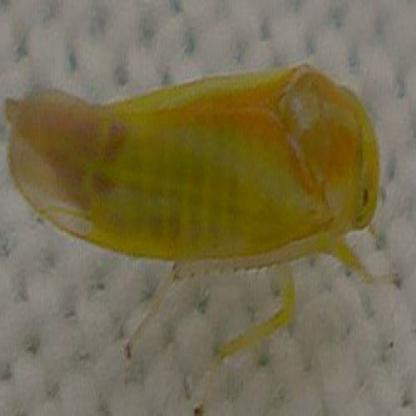green-leafhopper: (9, 70, 385, 282)
